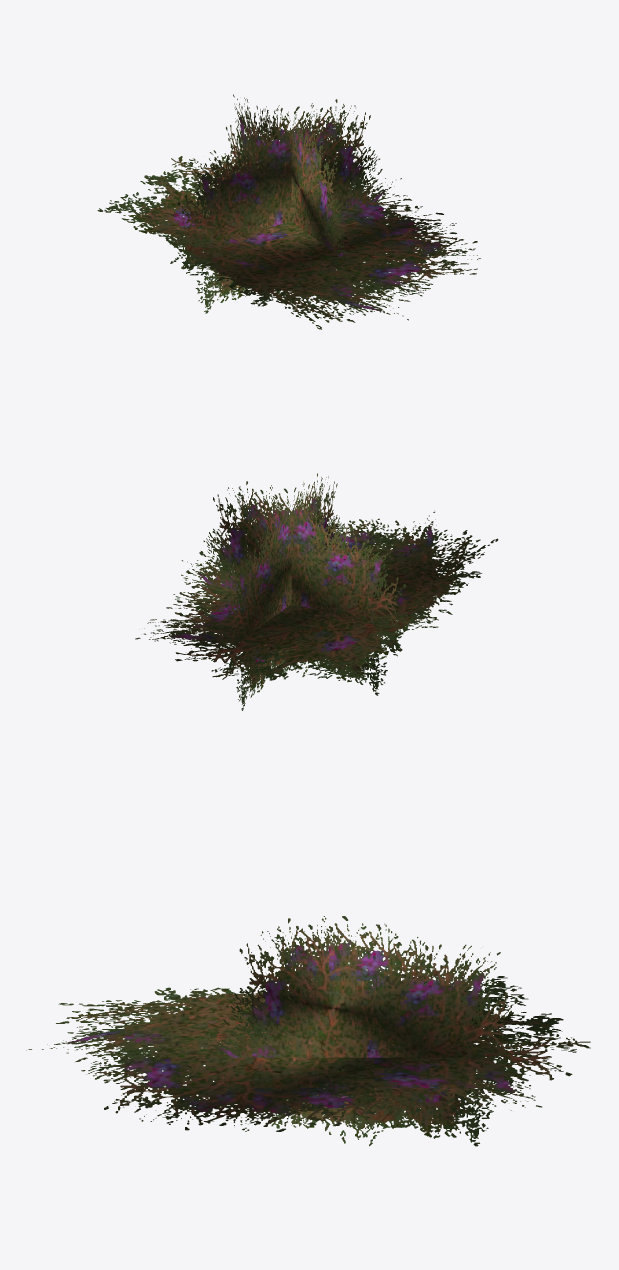
The model's file is shrb_flowerbush_sm_l1.fbx.
The picture shows the model from 3 angles, top to bottom: view 1: azimuth 30°, elevation 25°; view 2: azimuth 150°, elevation 25°; view 3: azimuth 270°, elevation 25°; orthographic projection. The views are drawn at different scales.
Visible parts, largest first — view 1: mesh_node; view 2: mesh_node; view 3: mesh_node.
Part boxes in pixels (x1,y1,x2,y2): mesh_node: [97, 94, 480, 329]; mesh_node: [135, 473, 498, 710]; mesh_node: [26, 916, 590, 1146].
Bounding box in the file's own units: 1.83 × 1.26 × 2.12.
Materials: 1 (1 with a texture image).
